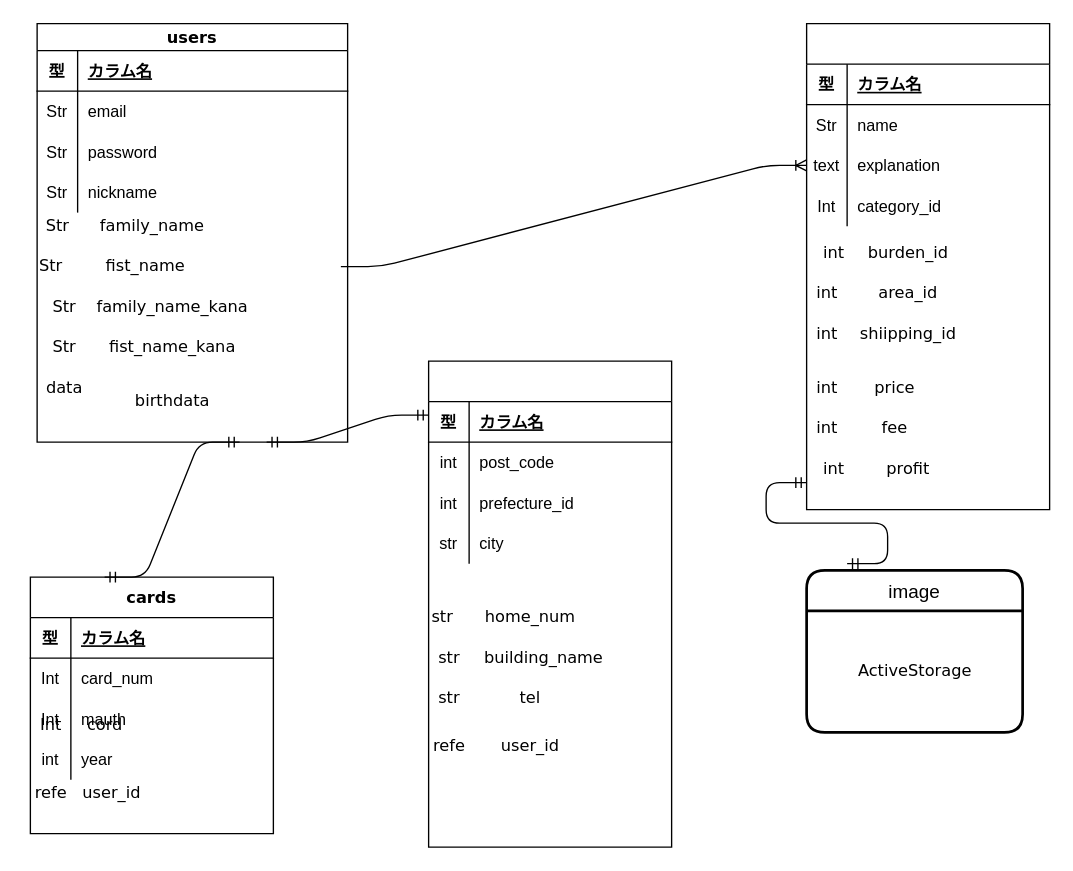
Image size: 1073x871. Some labels were removed from this diagram. Here are the shapes that lost their labels. From the top down, the box of each, then its label:
(805, 22, 1050, 510): items
(427, 360, 672, 847): addressed
